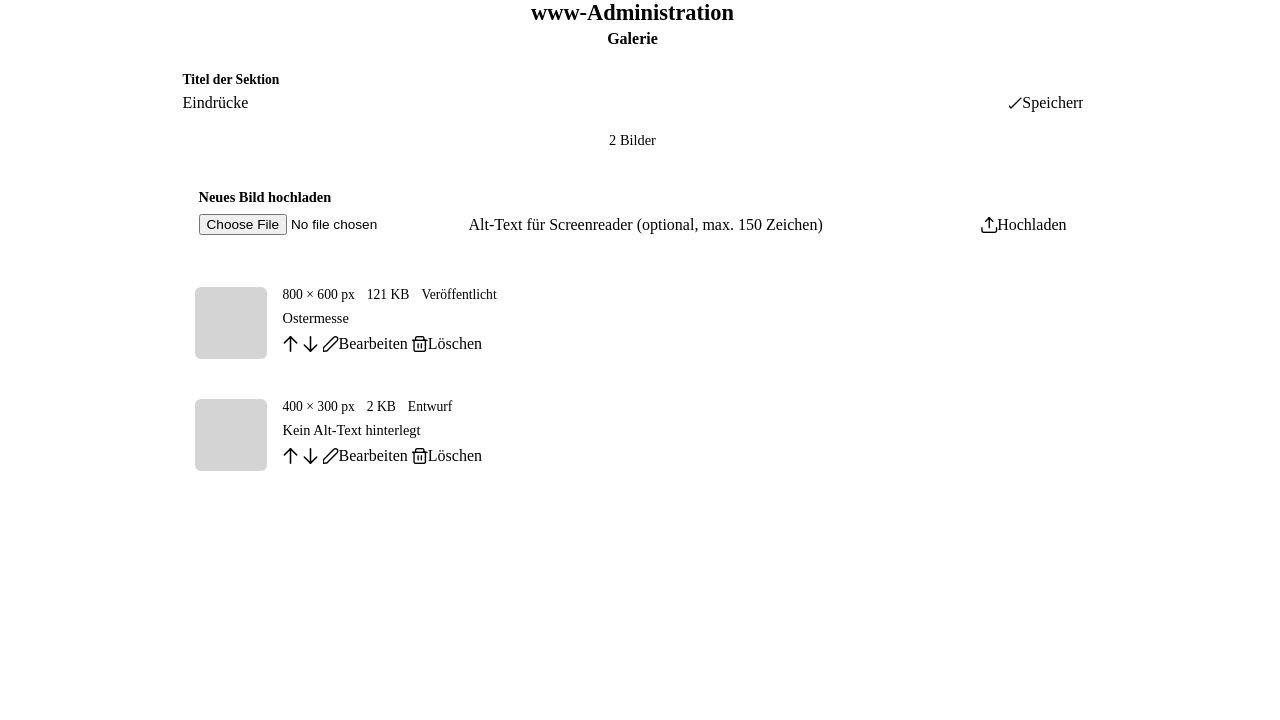
it: GalleryAdminView › opens the delete confirmation dialog
The image size is (1280, 720).
Step 1. Click the button "Löschen" below "Ostermesse" → (447, 344), box left=412, top=335, right=482, bottom=353
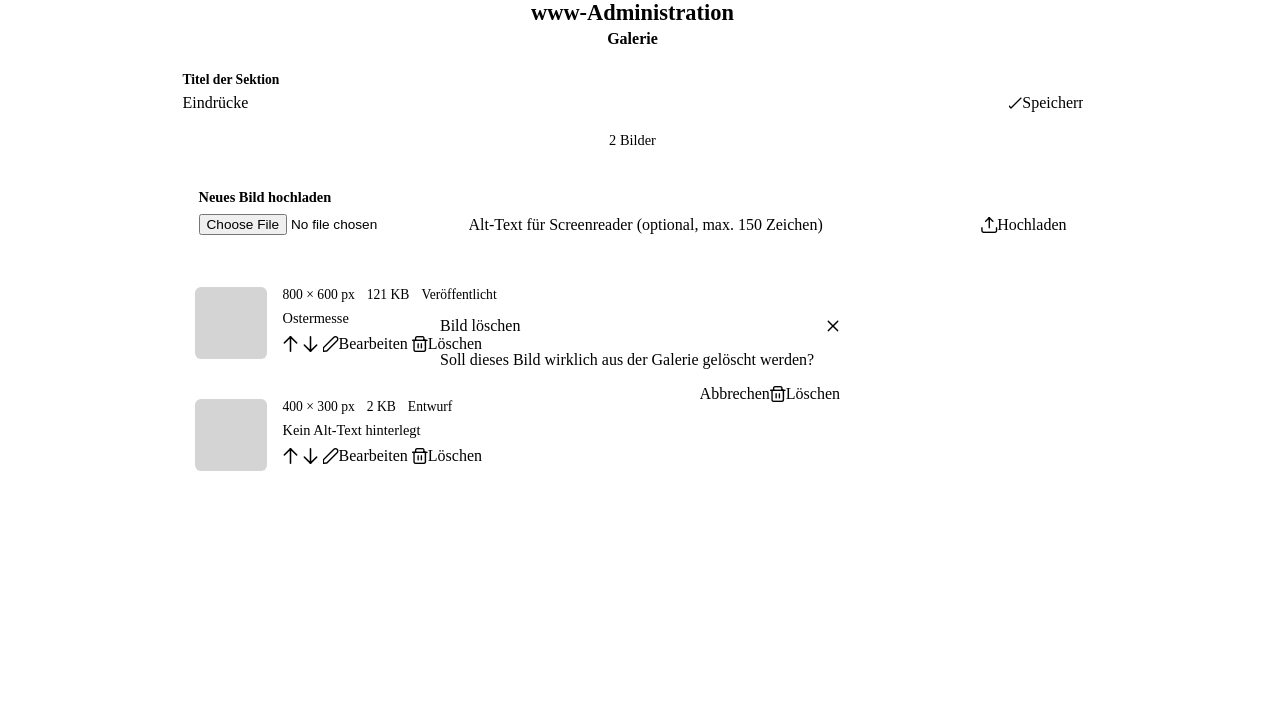
Now the text "Soll dieses Bild wirklich aus der Galerie gelöscht werden?" is shown, box left=440, top=351, right=840, bottom=369
